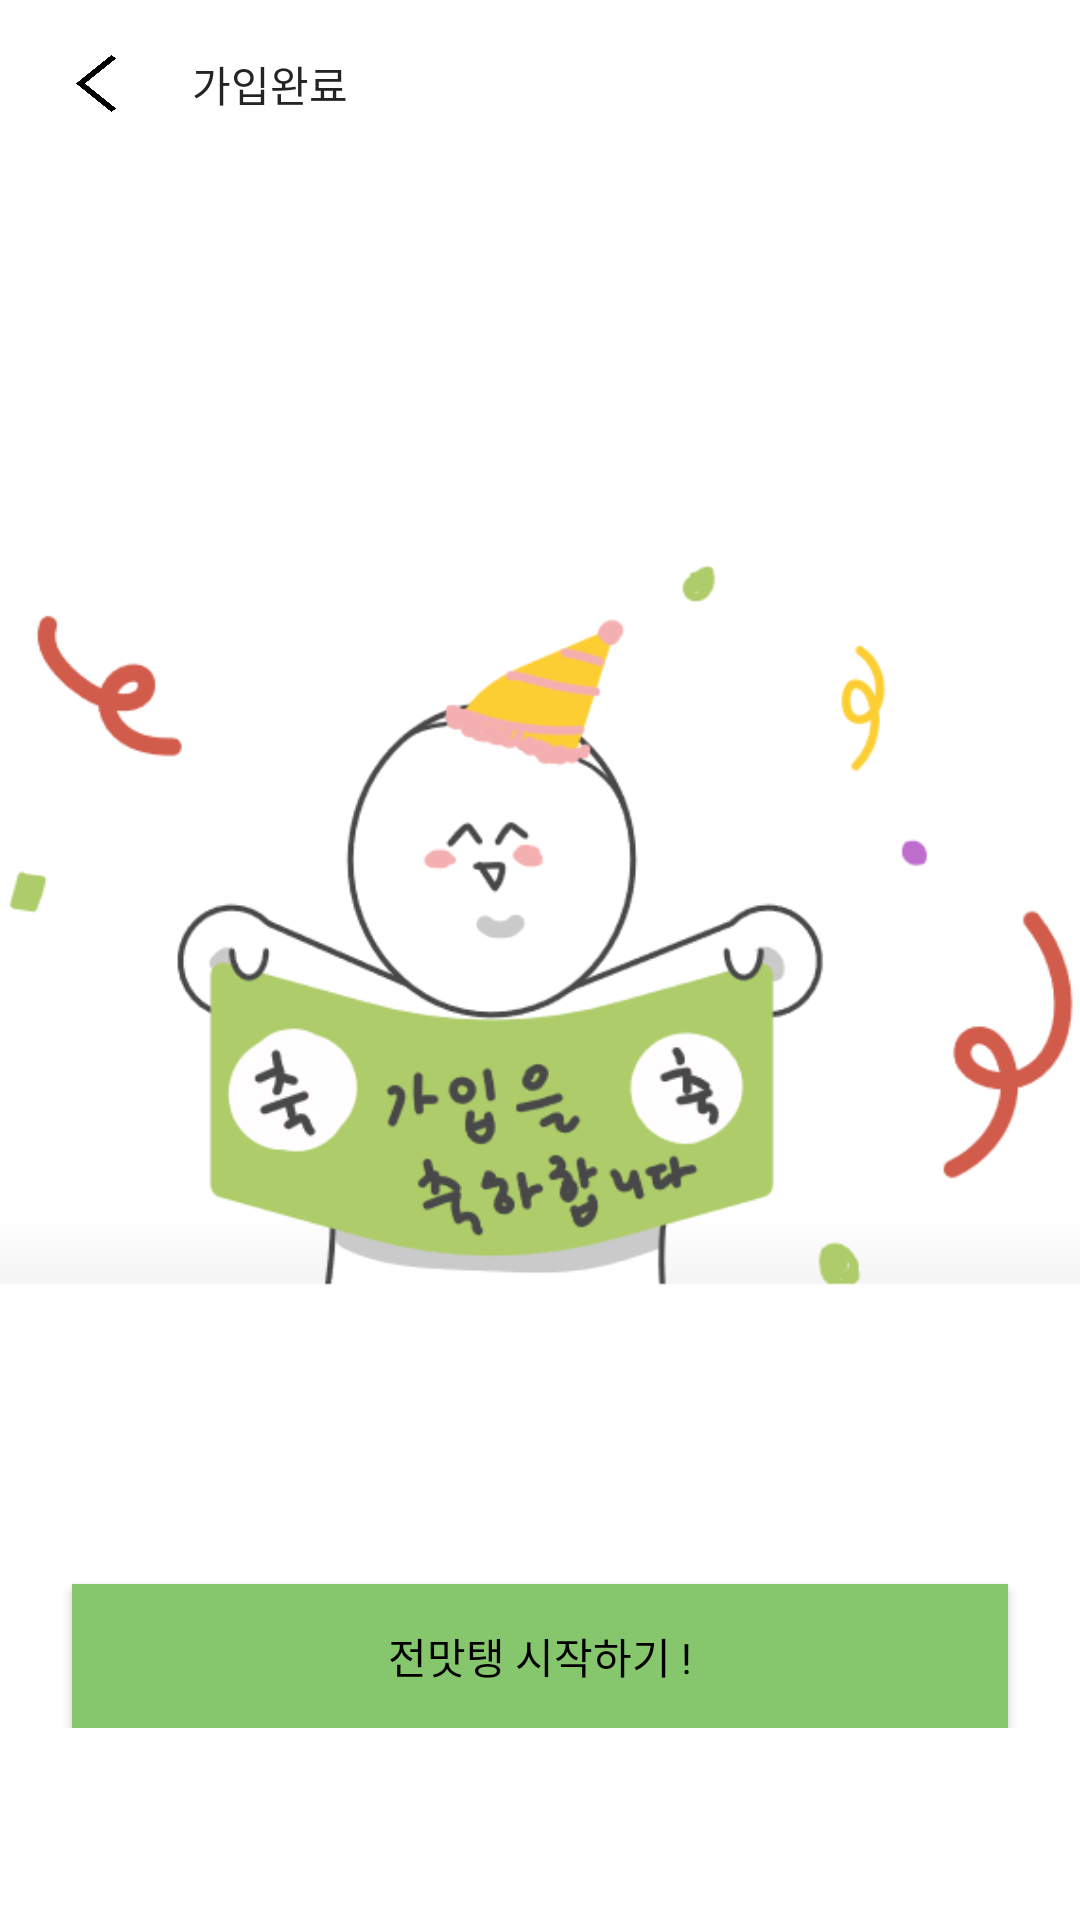

Icons on this 1080w x 1920h Android screen, each with its box as [x1=x1, y1=y1, x2=x2, y2=y2]:
back: [x1=76, y1=55, x2=116, y2=112]
